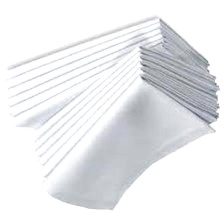tissue: (26, 42, 223, 213), (0, 14, 211, 131)
